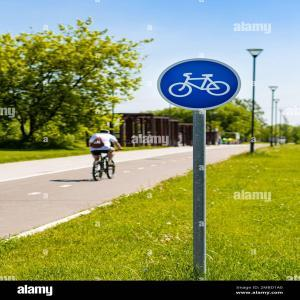CYCLE CROSSING: (159, 58, 243, 111)
